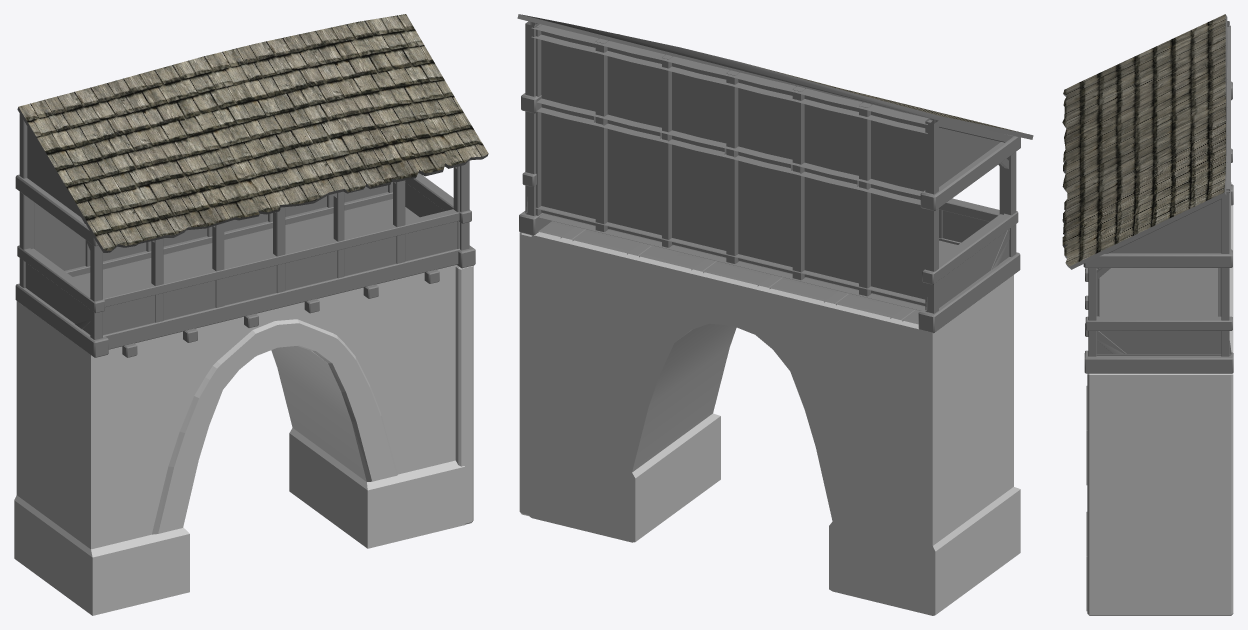
Rendered from wall_4.fbx.
The picture shows the model from 3 angles, left to right: view 1: azimuth 30°, elevation 25°; view 2: azimuth 150°, elevation 25°; view 3: azimuth 270°, elevation 25°; orthographic projection. The views are drawn at different scales.
Visible parts, largest first — view 1: Mesh; view 2: Mesh; view 3: Mesh.
Part boxes in pixels (box(x1,y1,x2,y2)): Mesh: box(14, 14, 488, 615); Mesh: box(517, 14, 1033, 615); Mesh: box(1062, 14, 1233, 615).
Bounding box in the file's own units: 1264 × 1438 × 516.
